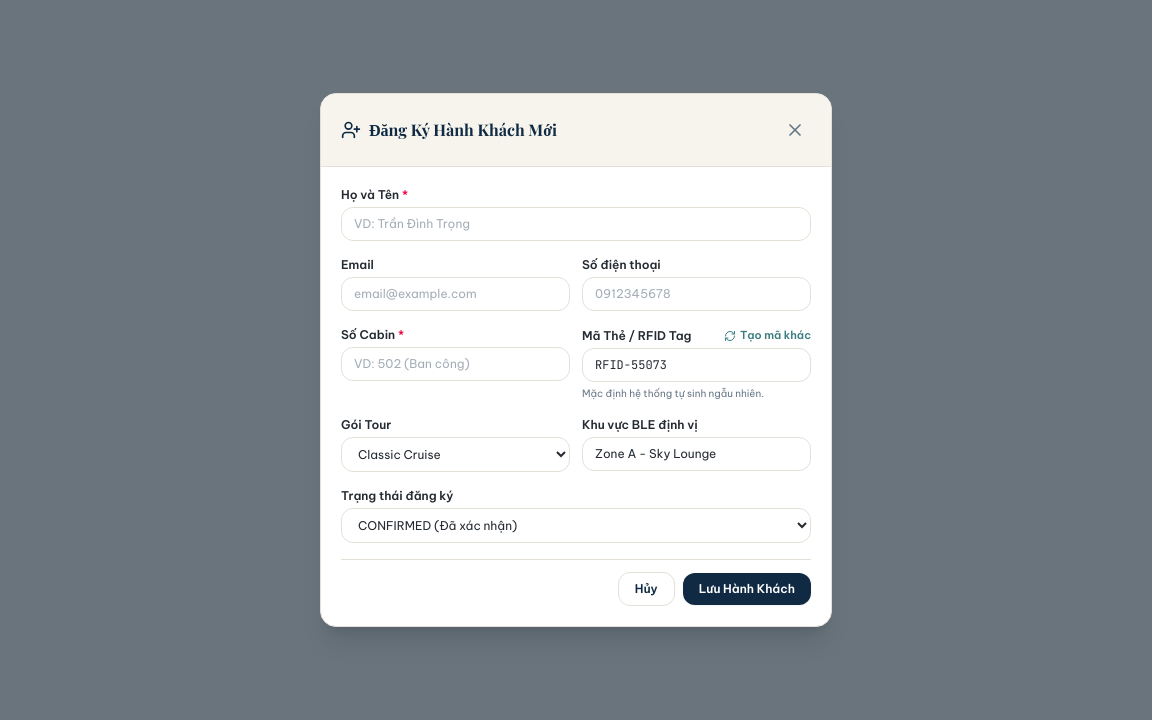
Test: RegisterPassengerModal Component Tests (KAN-151) › validates required fields on submit without inputting data
Click the button "Lưu Hành Khách". click: (747,589)
box: left=683, top=573, right=811, bottom=605
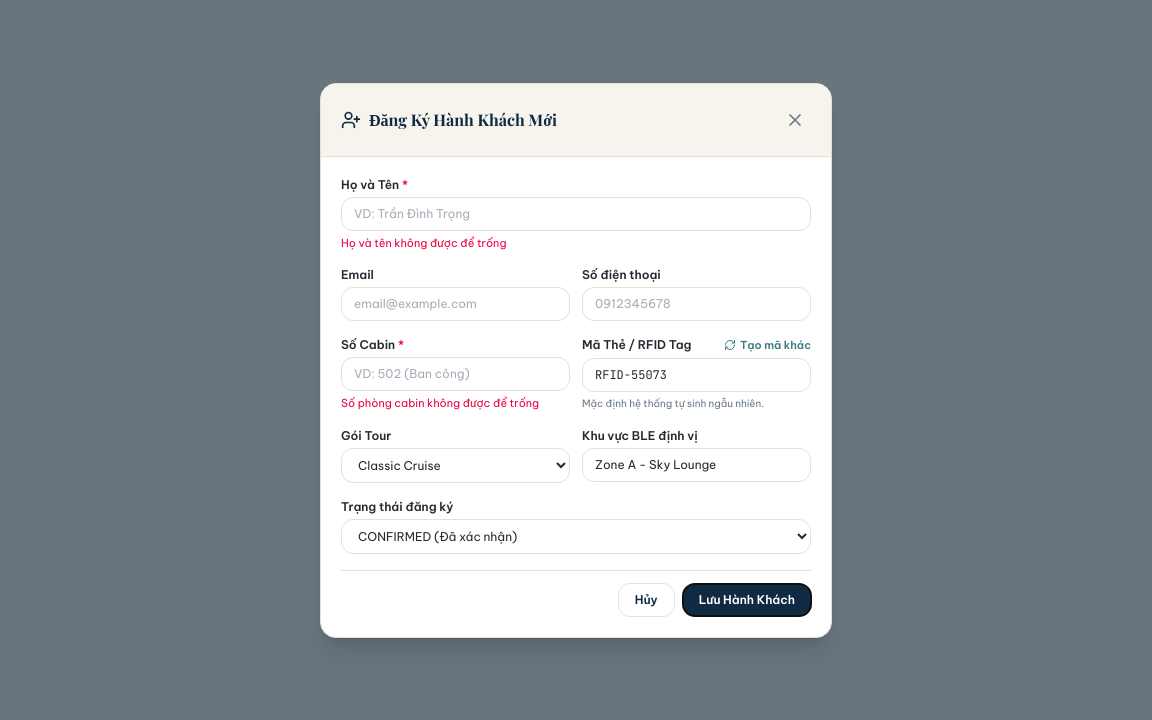
Result: the text "Họ và tên không được để trống" is shown at left=341, top=236, right=506, bottom=250
Result: the text "Số phòng cabin không được để trống" is shown at left=341, top=395, right=570, bottom=412
